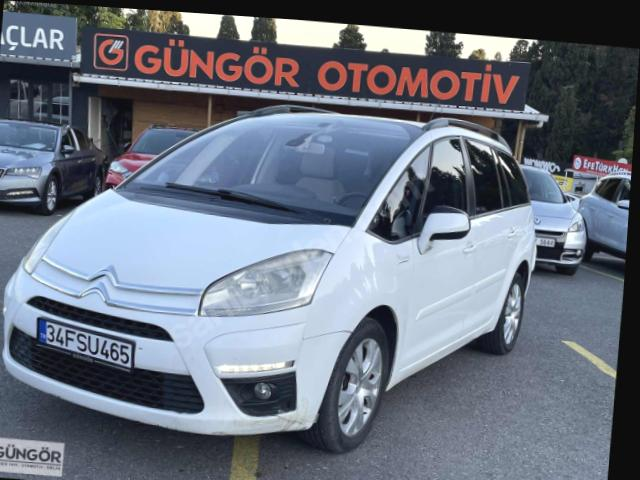plaka: (38, 319, 135, 370)
